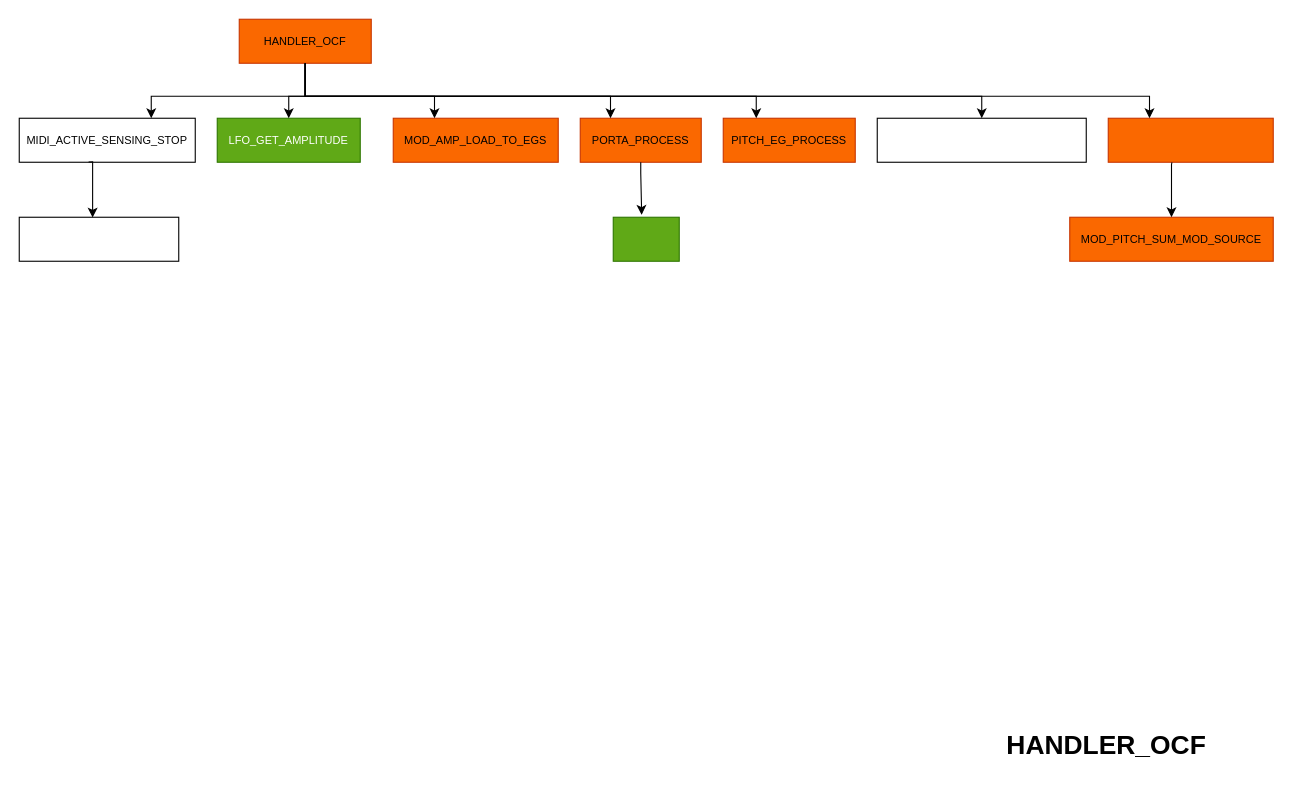
Image size: 1293x787. Some labels were removed from this diagram. Here are the shapes that lost their labels. From the top down, the box of each, then its label:
(876, 117, 1086, 162): MAIN_COMPARE_PATCH_LED_BLINK
(1107, 117, 1273, 162): MOD_PITCH_LOAD_TO_EGS
(18, 216, 179, 261): VOICE_DEACTIVATE_ALL
(612, 216, 679, 261): DELAY
